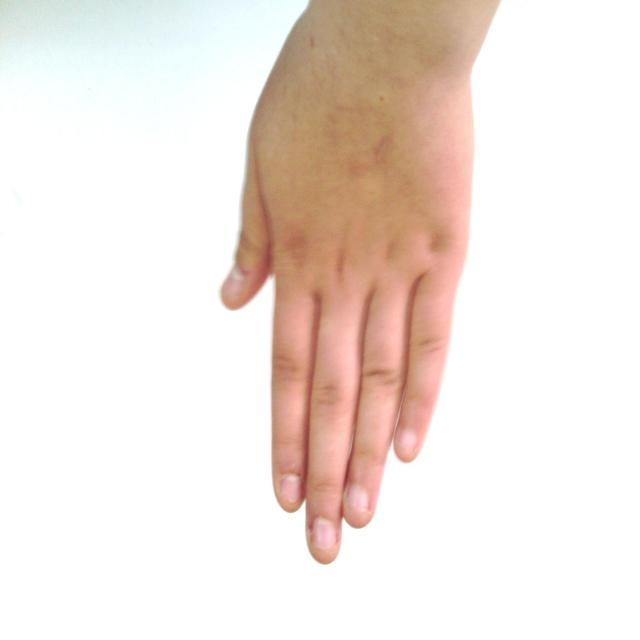Fingernail: (313, 519, 336, 549), (223, 269, 245, 298), (281, 476, 302, 503), (348, 488, 368, 513), (399, 431, 417, 454)
